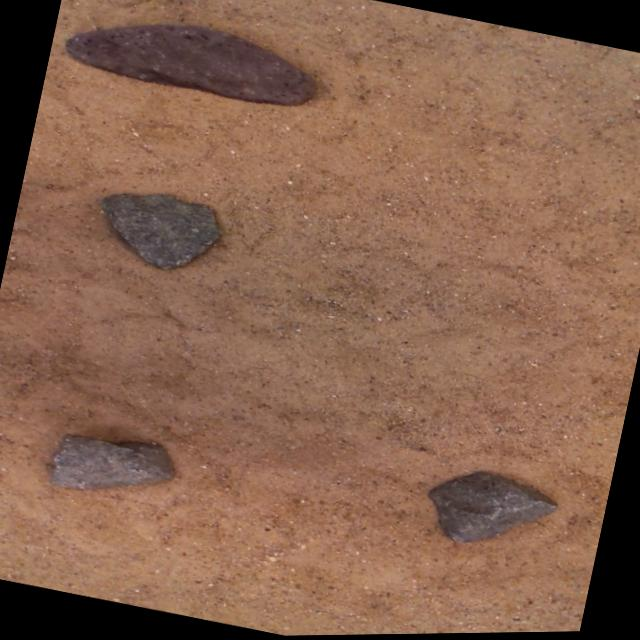rock: (68, 24, 316, 106), (429, 473, 557, 543), (103, 194, 220, 269), (50, 435, 174, 489)
